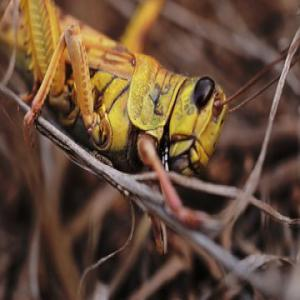locust: (3, 1, 239, 176)
